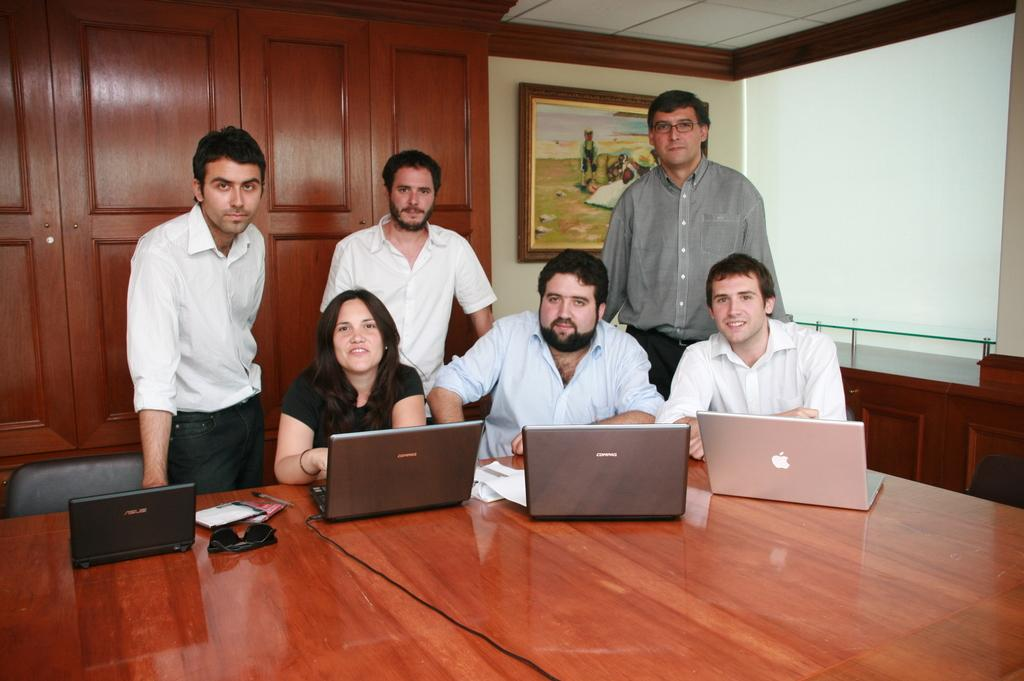Laptop: (513, 418, 706, 533), (694, 412, 886, 511), (307, 419, 483, 523), (71, 481, 197, 569)
